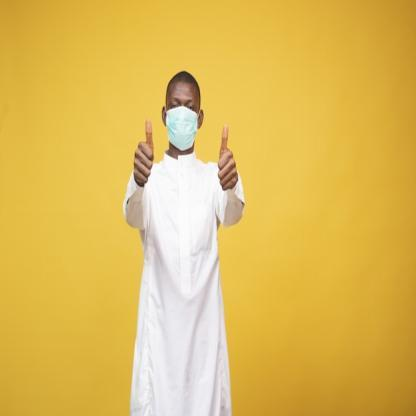thumb_up: (131, 115, 159, 186), (214, 119, 238, 192)
